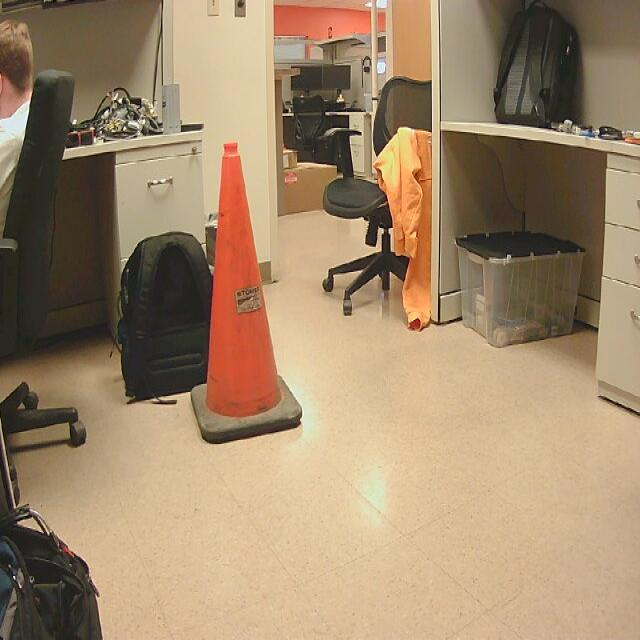traffic cone: (192, 142, 304, 448)
